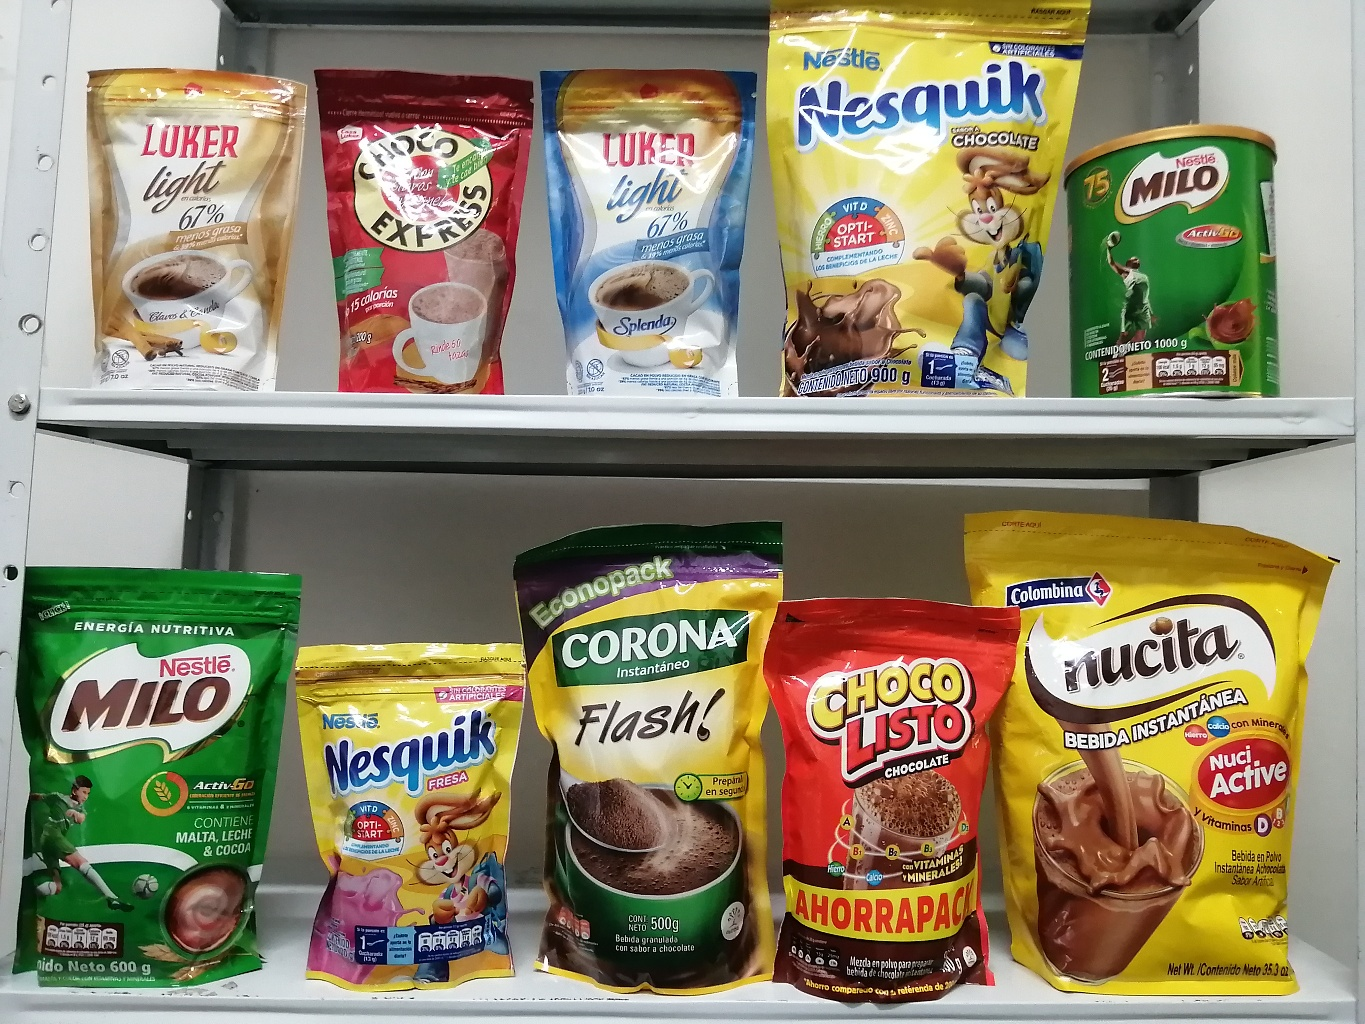COL0170103DYP40000: (760, 607, 1011, 1002)
COL0170305DYP20000: (293, 620, 539, 987)
